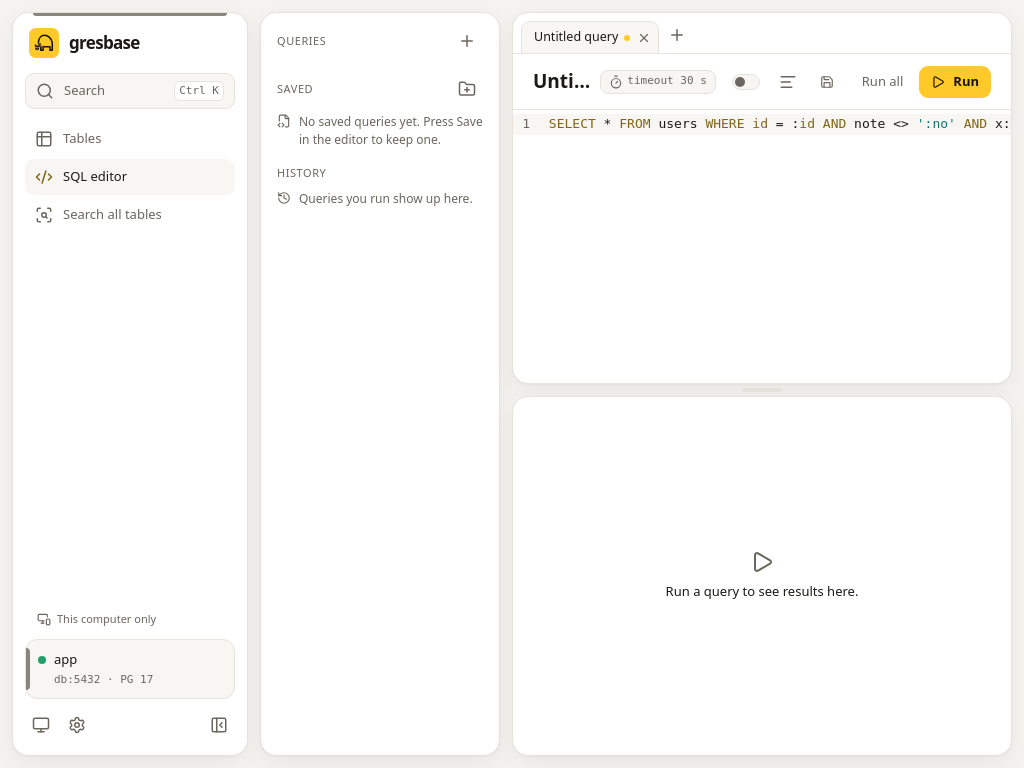
Test: :name parameters are asked for, sent bound and remembered per tab
Click the button "Run" at (955, 82), box [919,66,991,98]
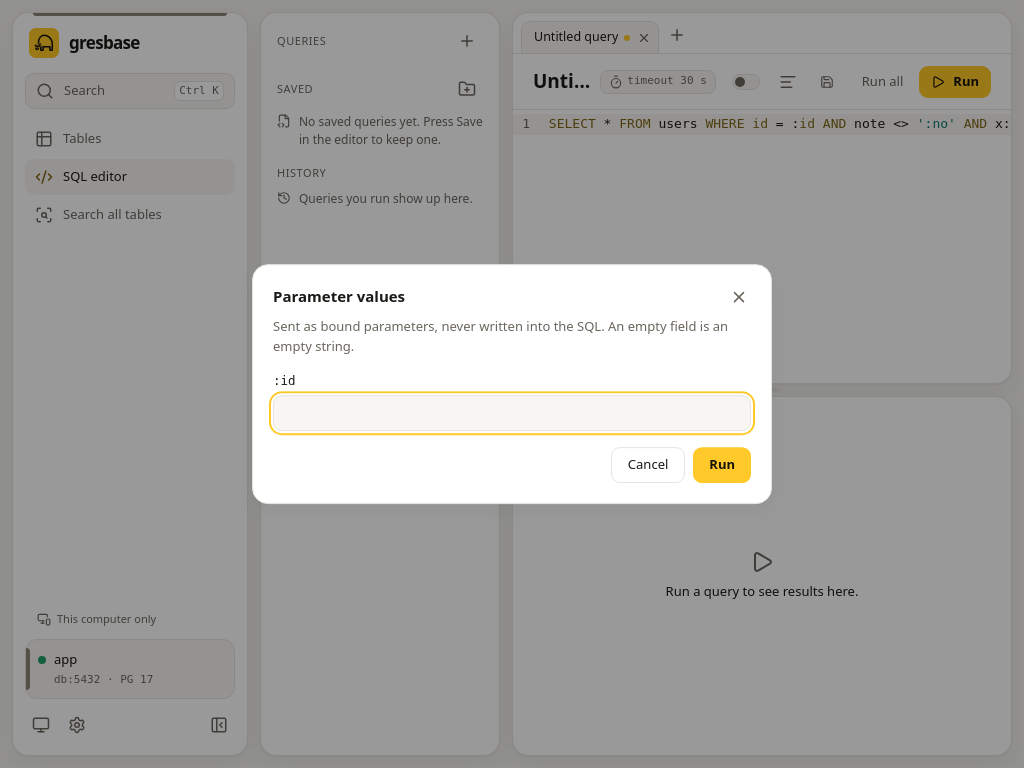
Type "1' OR '1'='1" into the field labelled ":id" at (512, 413), box [273,395,751,431]
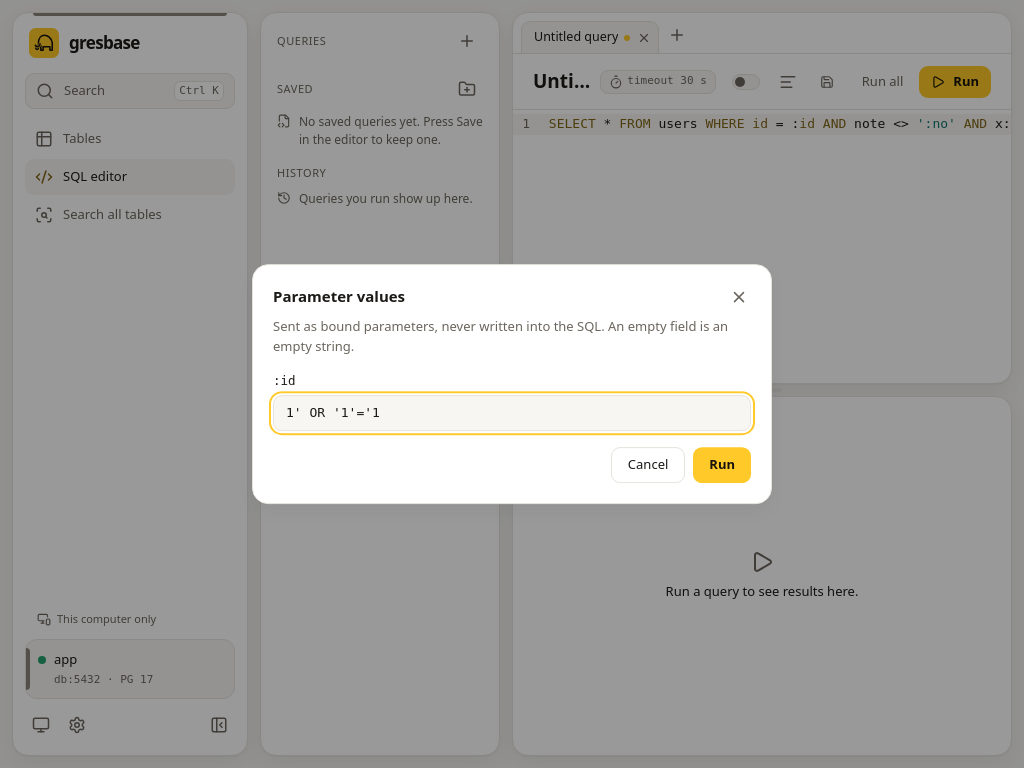
Click the button "Run" at (722, 465), box [693,447,751,483]
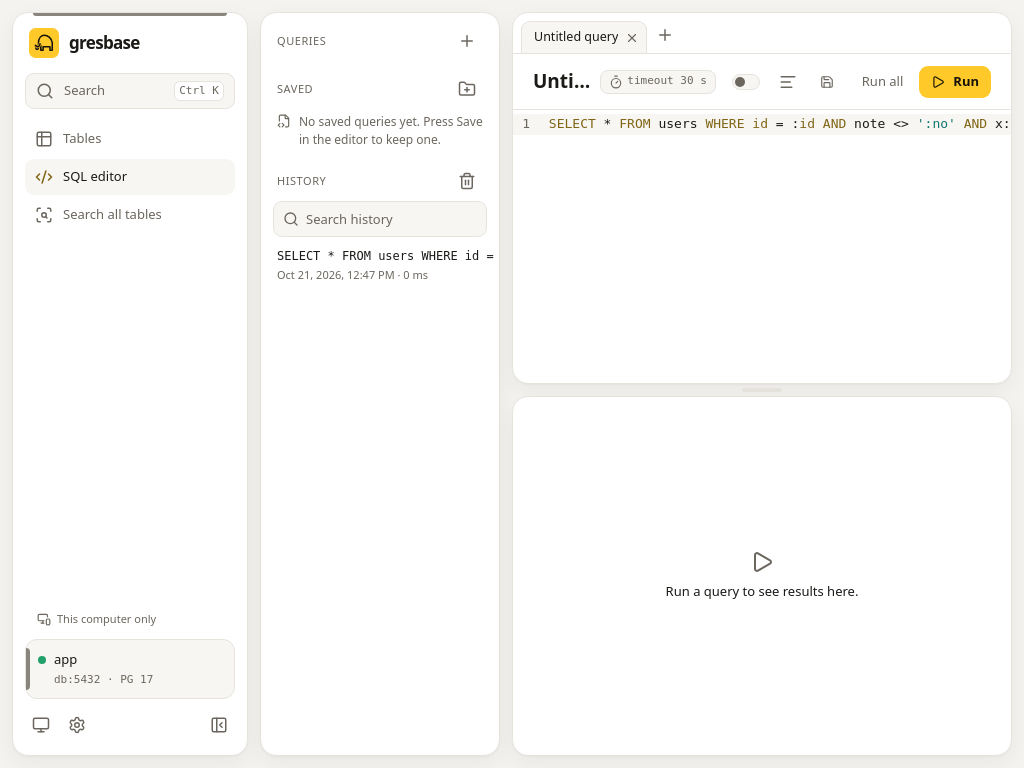
# Next time the value is prefilled.
Click the button "Run" at (955, 82), box [919,66,991,98]
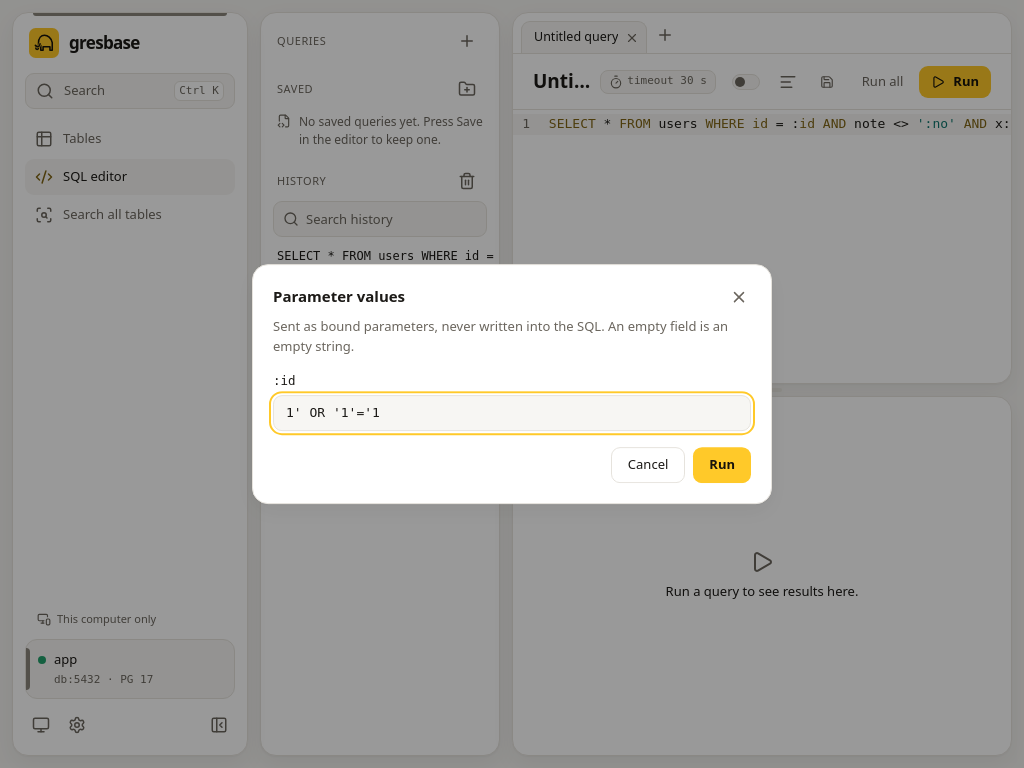
Check: the field labelled ":id" holds "1' OR '1'='1", box [273,395,751,431]
